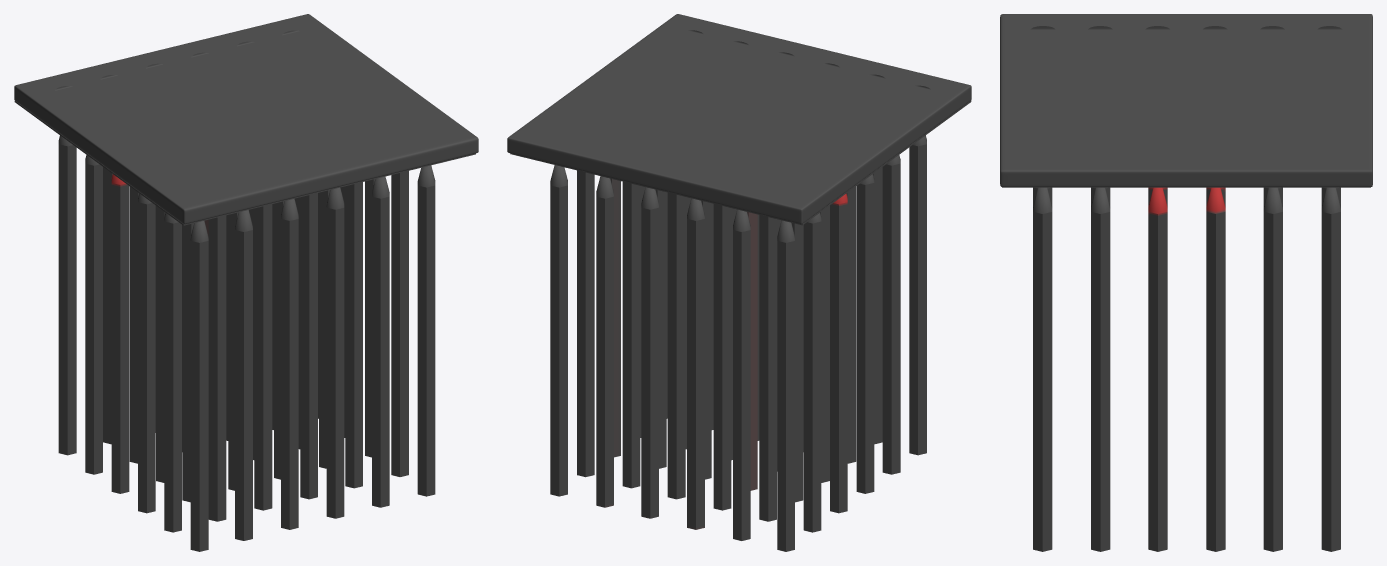
Rendered from spikes.glb.
The picture shows the model from 3 angles, left to right: view 1: azimuth 30°, elevation 25°; view 2: azimuth 150°, elevation 25°; view 3: azimuth 270°, elevation 25°; orthographic projection. The views are drawn at different scales.
Visible parts, largest first — view 1: iron_bars, plate, plate_ground; view 2: iron_bars, plate, plate_ground; view 3: plate, iron_bars, plate_ground.
Boxes of the visible parts, bbox=[...] form: iron_bars: bbox=[58, 135, 435, 551]; plate: bbox=[14, 14, 478, 224]; plate_ground: bbox=[14, 31, 475, 225]; iron_bars: bbox=[550, 135, 926, 551]; plate: bbox=[507, 14, 971, 224]; plate_ground: bbox=[510, 31, 971, 225]; plate: bbox=[1000, 14, 1372, 187]; iron_bars: bbox=[1033, 187, 1340, 551]; plate_ground: bbox=[1002, 30, 1370, 187].
Bounding box in the file's own units: 1 × 1.17 × 1.
1 material, 1 textured.
